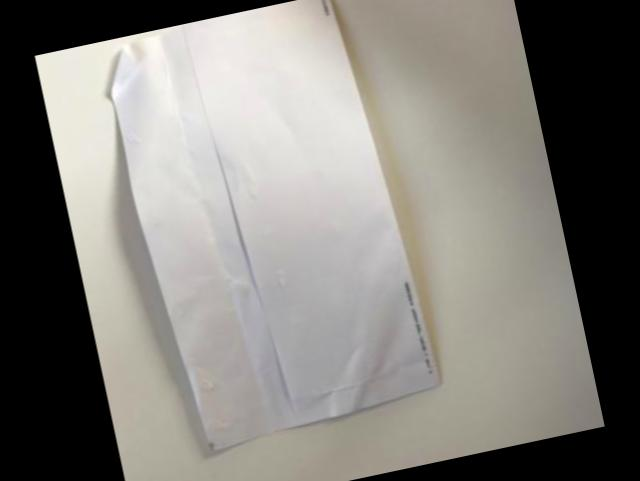cardboard paper: (105, 0, 437, 453)
